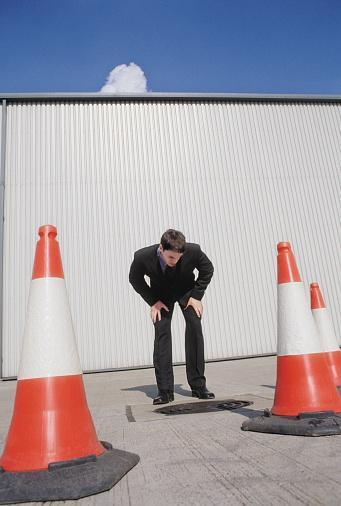Cone: (1, 224, 142, 501), (244, 242, 341, 440)
